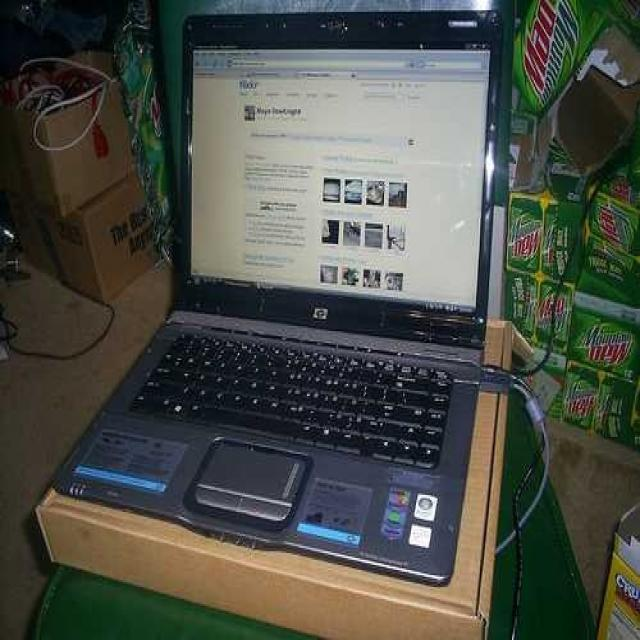laptop: (55, 8, 518, 524)
